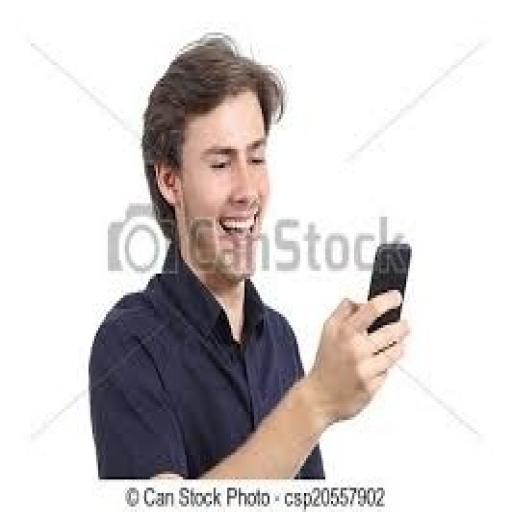laughing: (83, 27, 416, 480)
